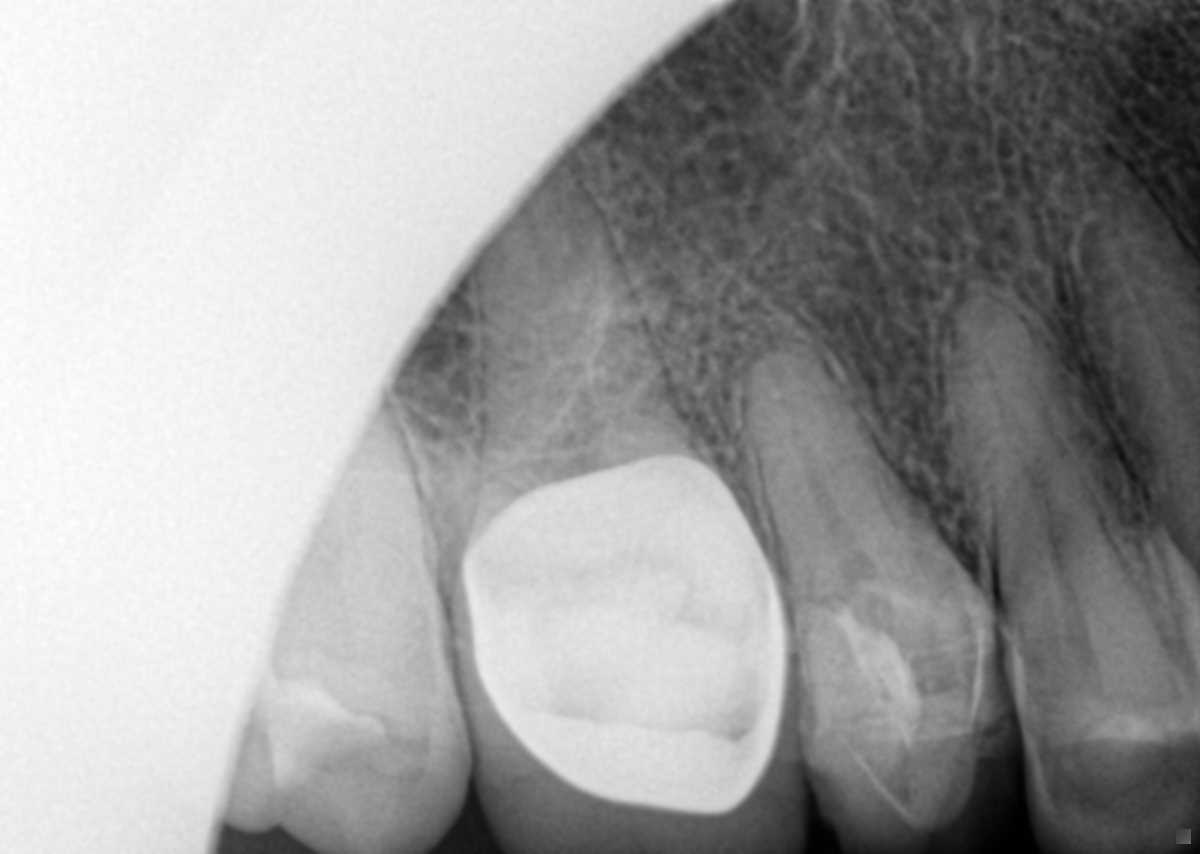Main Canal: (981, 349, 1101, 668), (772, 368, 879, 609), (1108, 228, 1200, 418)
Main Root: (937, 301, 1200, 690), (740, 343, 995, 683), (1052, 143, 1200, 554)
Palatal Root: (467, 156, 689, 535)
